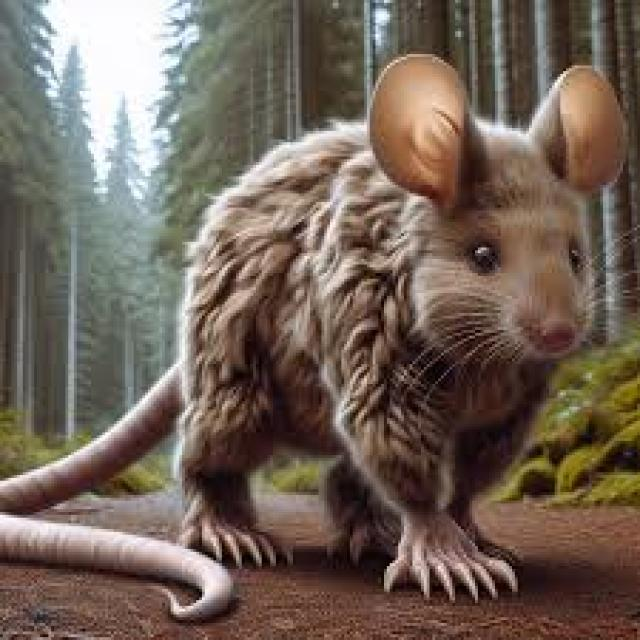rat: (0, 48, 634, 611)
